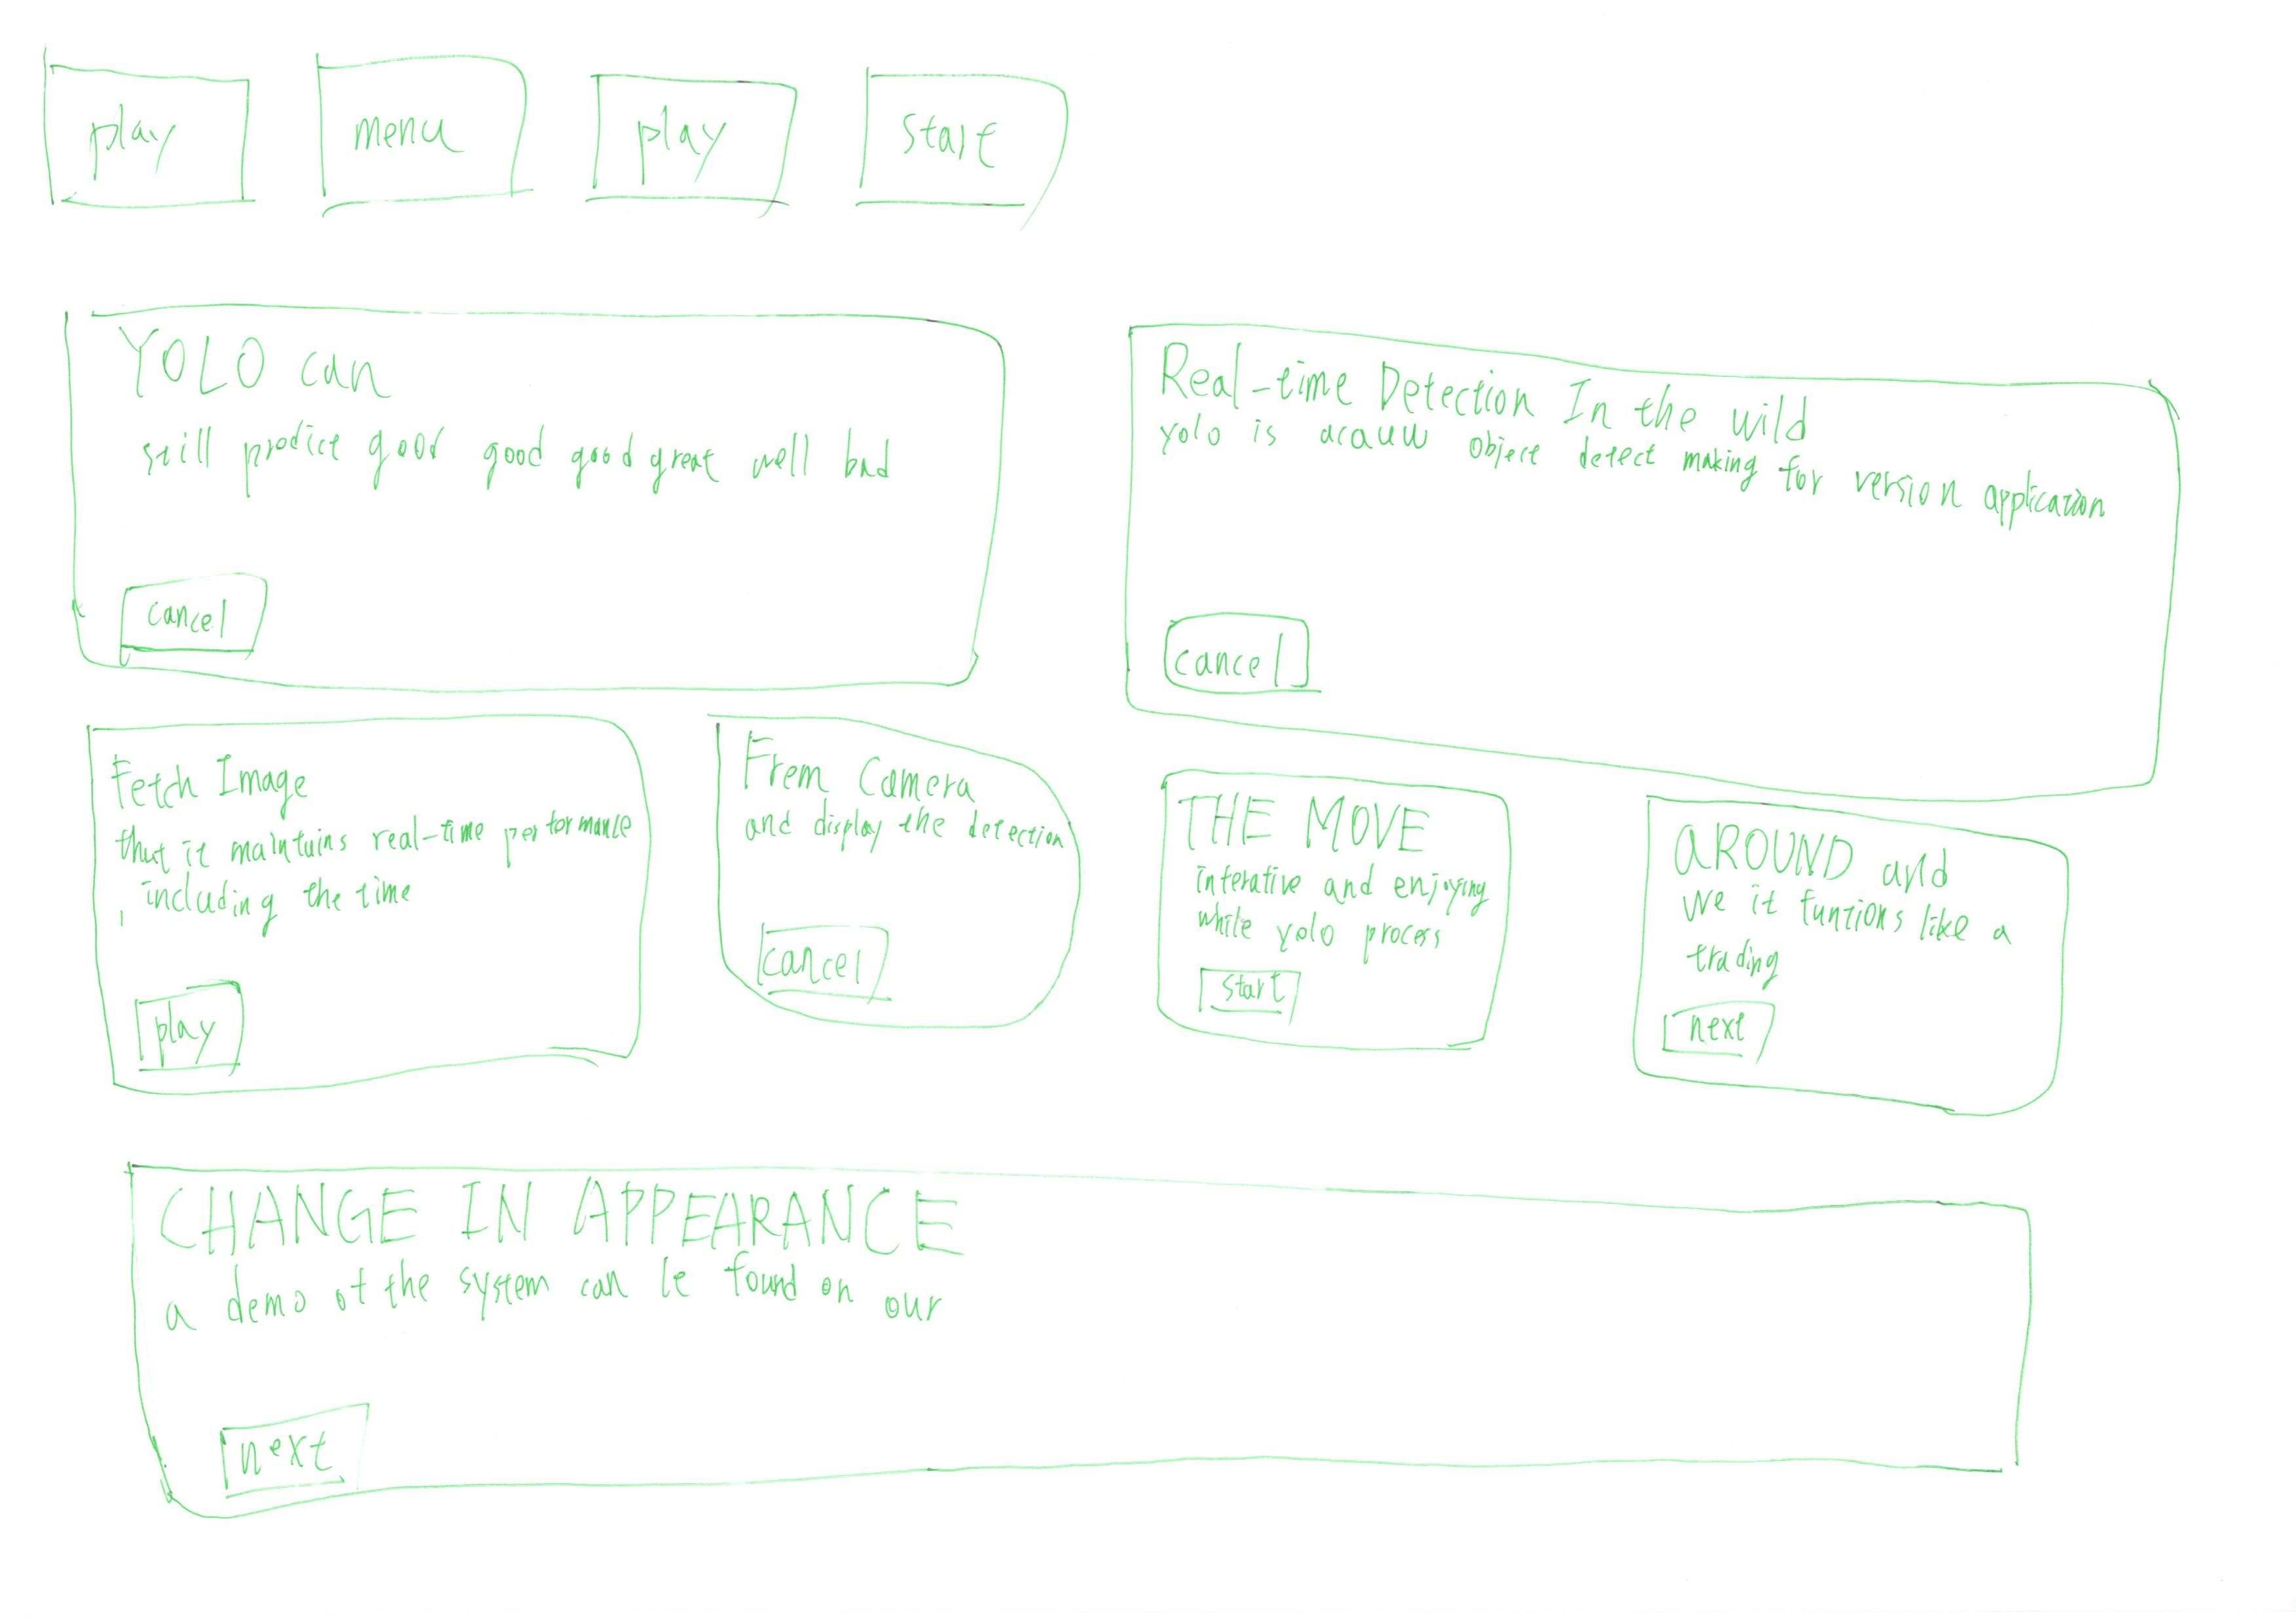cancel: (97, 554, 302, 678), (1137, 596, 1345, 708), (744, 898, 900, 1037)
double: (1092, 283, 2243, 819), (49, 274, 1081, 714)
menu: (288, 47, 538, 227)
next: (186, 1392, 415, 1526), (1638, 986, 1800, 1081)
play: (23, 25, 264, 234), (564, 53, 812, 227), (113, 972, 250, 1113)
quadruple: (40, 703, 670, 1127), (1591, 758, 2118, 1146), (682, 700, 1123, 1074), (1127, 738, 1545, 1083)
row: (30, 262, 2289, 805), (7, 731, 2289, 1167), (0, 1139, 2282, 1575), (5, 4, 2252, 295)
single: (40, 1121, 2147, 1570)
small-title: (1157, 330, 1872, 480), (148, 1179, 955, 1255), (1661, 824, 2001, 907), (1188, 761, 1442, 858), (744, 736, 1000, 824), (88, 332, 390, 406), (100, 742, 353, 821)
start: (825, 42, 1201, 230), (1195, 946, 1326, 1049)
text: (1164, 429, 2117, 548), (142, 406, 890, 515), (153, 1265, 981, 1341), (113, 819, 629, 923), (1667, 893, 2036, 981), (1176, 854, 1496, 946), (742, 810, 1076, 877)
